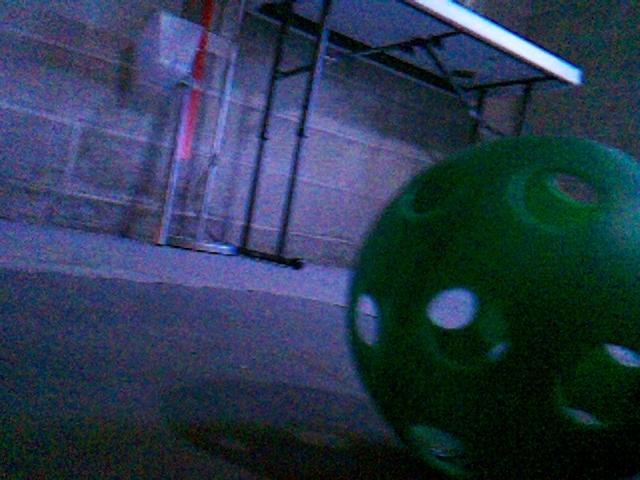Green: (345, 135, 640, 477)
